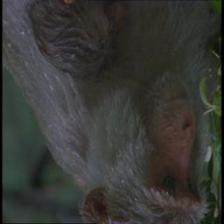monkey: (76, 51, 223, 224)
